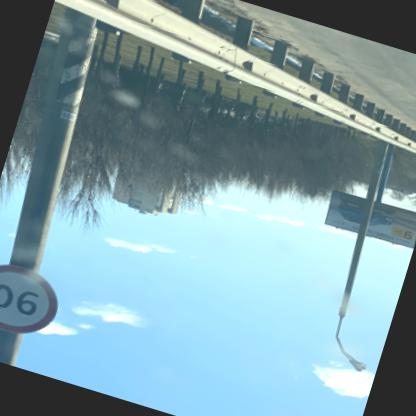speedlimit: (0, 256, 69, 347)
